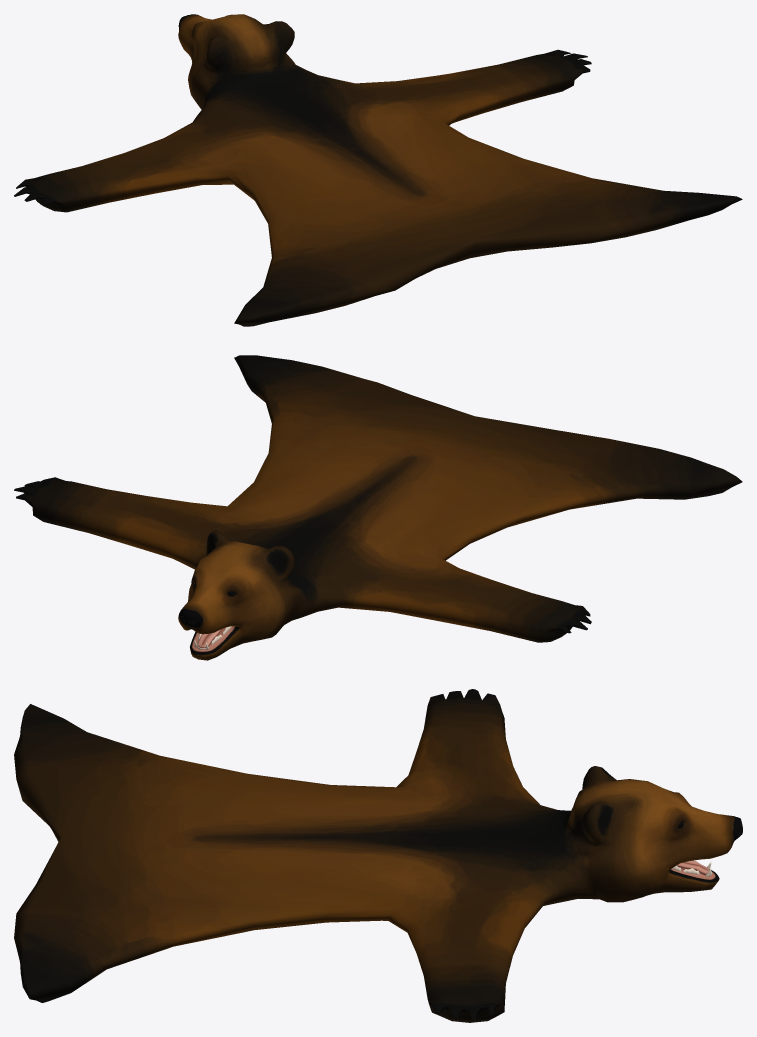
The model's file is BearRug.fbx.
3 views of the same model, one above another, from view 1: azimuth 30°, elevation 25°; view 2: azimuth 150°, elevation 25°; view 3: azimuth 270°, elevation 25° (orthographic). The views are drawn at different scales.
Visible parts, largest first — view 1: BearRug; view 2: BearRug; view 3: BearRug.
Boxes of the visible parts, box(x1,y1,x2,y2) form: BearRug: box(14, 14, 742, 326); BearRug: box(14, 355, 742, 660); BearRug: box(14, 689, 742, 1022).
Size of the model in its own units: 494 by 72.98 by 460.
